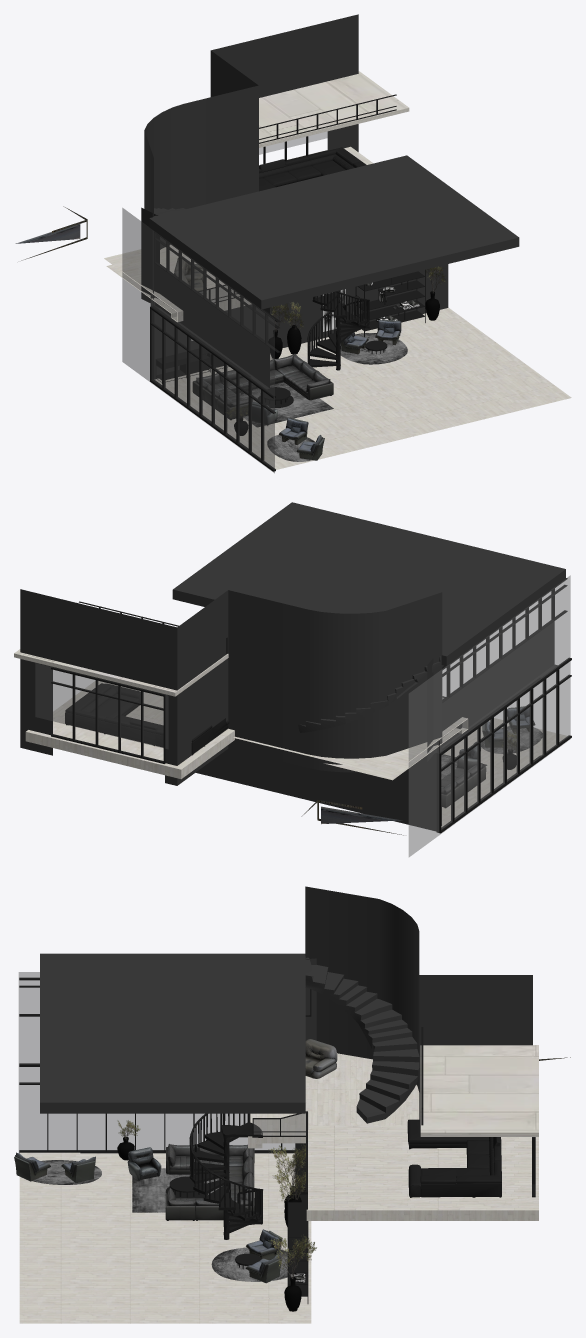
File: res-loft.glb
3 renders of one model, top to bottom at view 1: azimuth 30°, elevation 25°; view 2: azimuth 150°, elevation 25°; view 3: azimuth 270°, elevation 25°, orthographic. The views are drawn at different scales.
Visible parts, largest first — view 1: Loft_8, Loft_6, Loft_104, Loft_0, Loft_109, Loft_74, Loft_80, Loft_114, Loft_36, Loft_88; view 2: Loft_8, Loft_104, Loft_6, Loft_0, Loft_74, Loft_109, Loft_80, Loft_73, Loft_114; view 3: Loft_8, Loft_6, Loft_104, Loft_0, Loft_74, Loft_109, Loft_80, Loft_114, Loft_88, Loft_111, Loft_36, Loft_115.
Boxes of the visible parts, x1,y1,x2,y2 form: Loft_8: [141, 14, 519, 389]; Loft_6: [104, 71, 571, 469]; Loft_104: [122, 131, 327, 473]; Loft_0: [150, 94, 425, 471]; Loft_109: [192, 353, 333, 419]; Loft_74: [258, 147, 387, 407]; Loft_80: [239, 333, 407, 461]; Loft_114: [279, 319, 401, 460]; Loft_36: [234, 291, 439, 435]; Loft_88: [225, 266, 446, 417]; Loft_8: [20, 502, 565, 831]; Loft_104: [35, 575, 570, 856]; Loft_6: [14, 649, 567, 827]; Loft_0: [51, 578, 571, 833]; Loft_74: [65, 683, 229, 755]; Loft_109: [441, 758, 486, 808]; Loft_80: [441, 726, 542, 779]; Loft_73: [321, 806, 402, 824]; Loft_114: [482, 706, 535, 747]; Loft_8: [40, 886, 532, 1123]; Loft_6: [19, 1045, 538, 1323]; Loft_104: [18, 972, 308, 1152]; Loft_0: [19, 977, 535, 1303]; Loft_74: [165, 1119, 501, 1269]; Loft_109: [165, 1144, 254, 1220]; Loft_80: [32, 1160, 287, 1281]; Loft_114: [14, 1152, 282, 1283]; Loft_88: [117, 1120, 316, 1278]; Loft_111: [305, 1039, 337, 1078]; Loft_36: [117, 1137, 301, 1311]; Loft_115: [127, 1147, 161, 1180].
Bounding box in the file's own units: 16.7 × 10.09 × 18.99.
18 materials, 12 textured.
